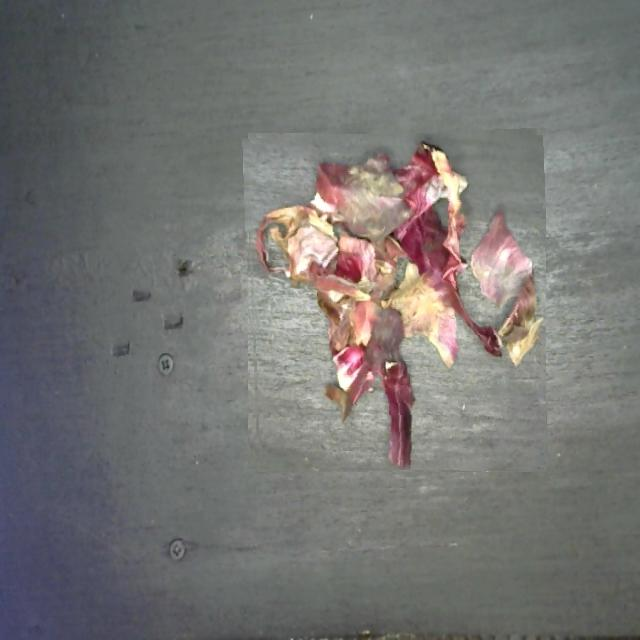biodegradable: (245, 130, 546, 472)
